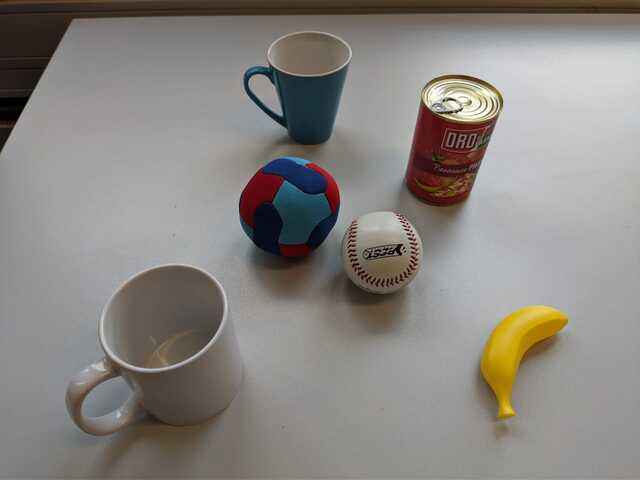005_tomato_soup_can: (406, 73, 503, 206)
011_banana: (477, 303, 571, 423)
025_mug: (64, 263, 248, 434), (242, 30, 354, 144)
055_baseball: (339, 211, 425, 296)
057_racquetball: (238, 156, 340, 259)
